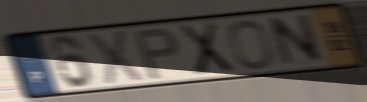6: (49, 33, 94, 91)
N: (267, 12, 327, 69)
O: (226, 18, 277, 71)
P: (132, 26, 182, 82)
X: (85, 28, 145, 87), (176, 20, 237, 78)
